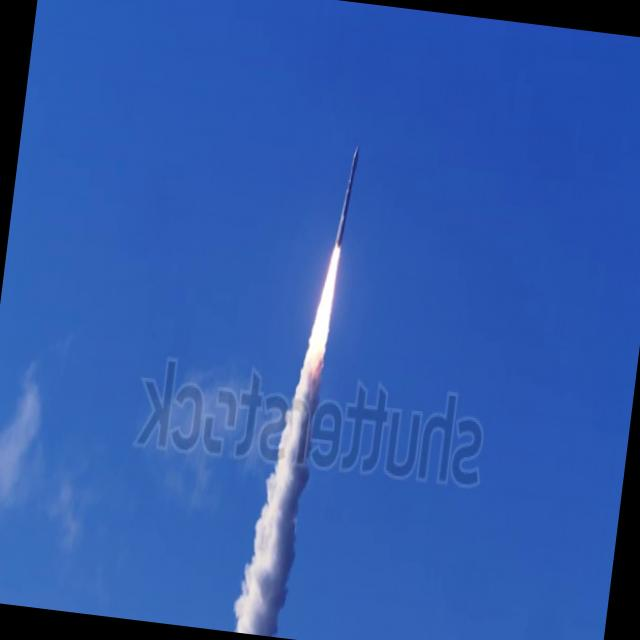rocket: (272, 138, 366, 513)
